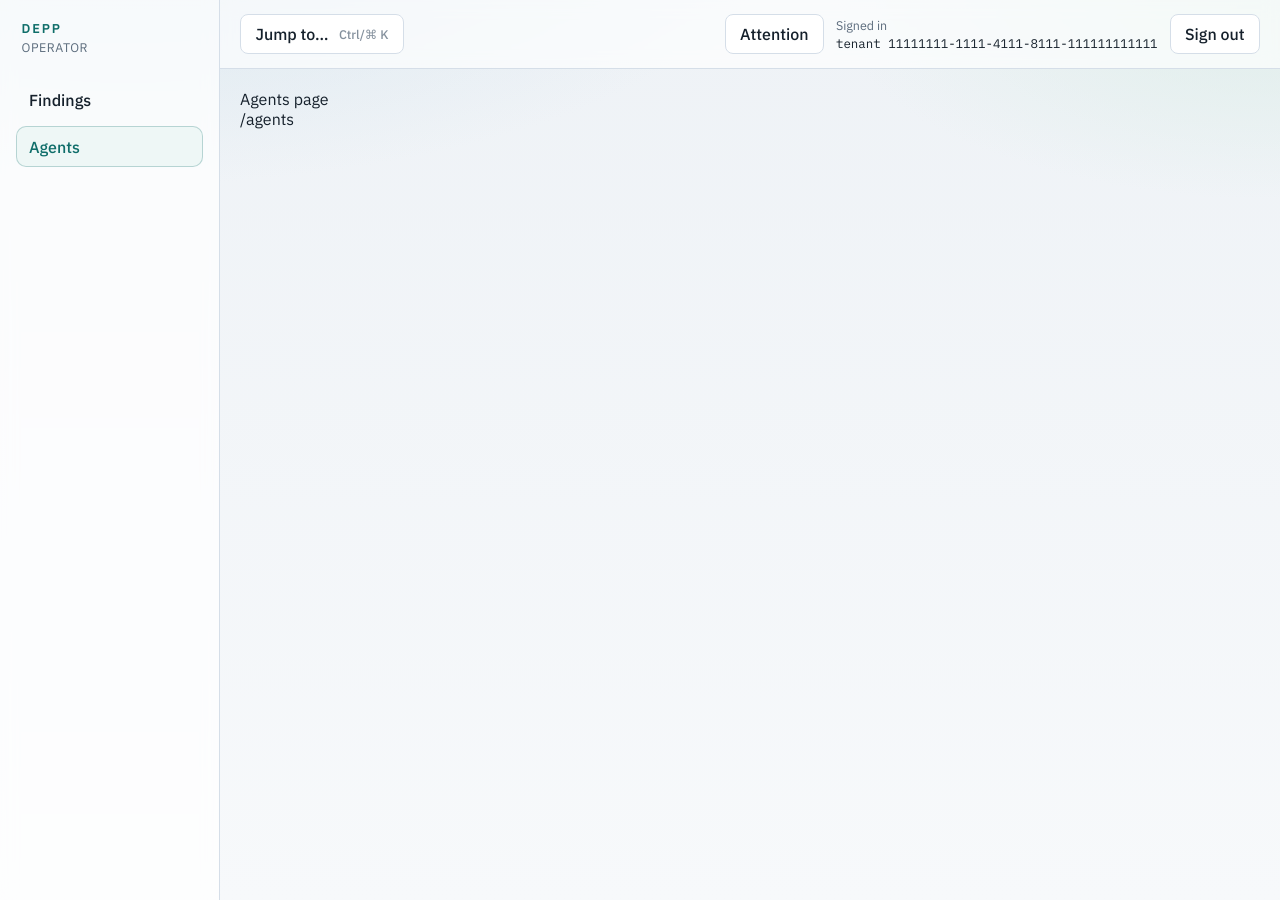
Test case: OperatorShell › navigates and applies findings filters through the jump bar URL path
The image size is (1280, 900).
Expected: the text "Agents page" is shown, 240,89 -> 329,109
Click the button "Jump to… Ctrl/⌘ K": click(322, 34) 240,14 -> 404,54
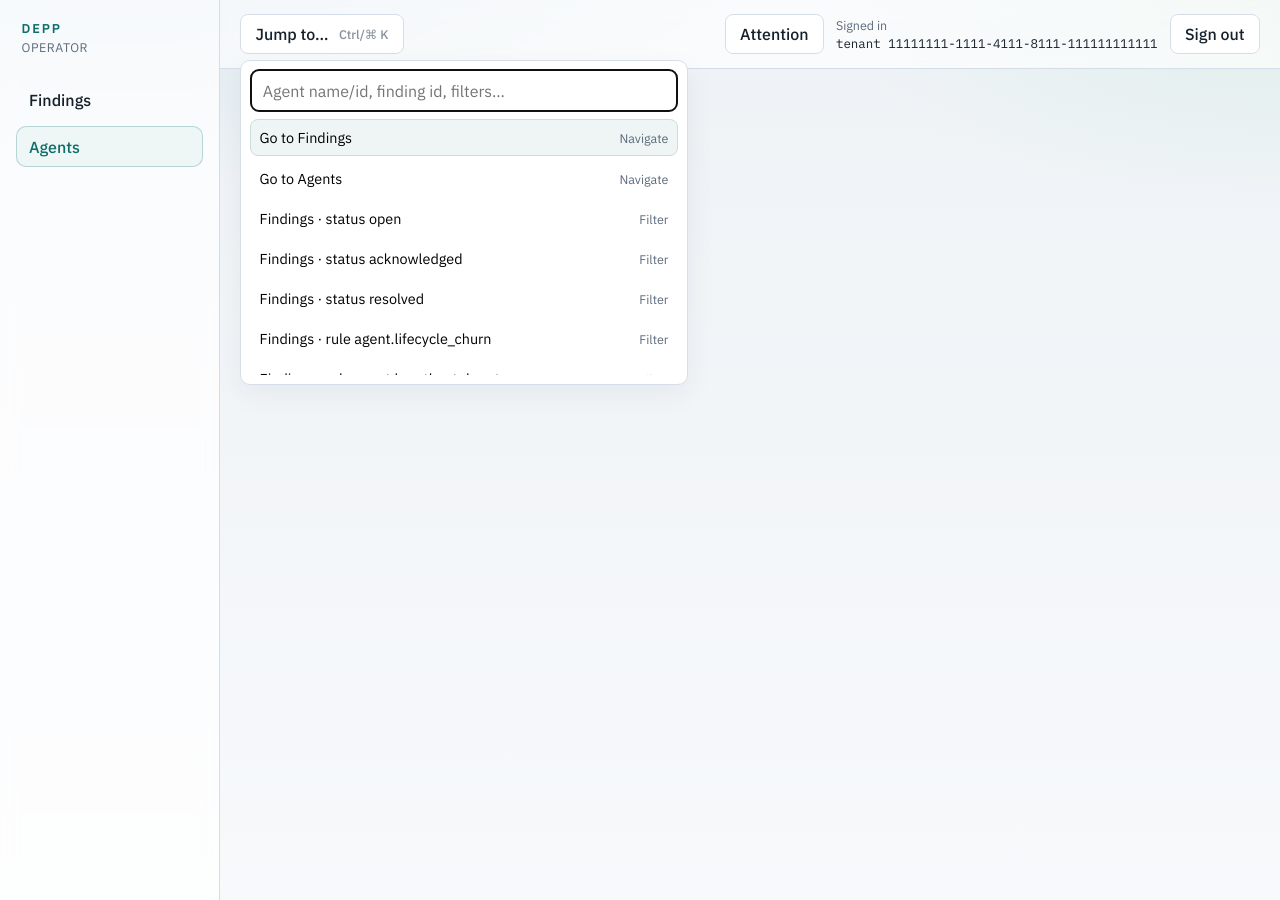
Expected: the dialog named "Jump to destination, lookup, or filter" is shown, 240,60 -> 688,385
Click the option "Go to Findings Navigate": click(306, 138) 250,119 -> 678,156
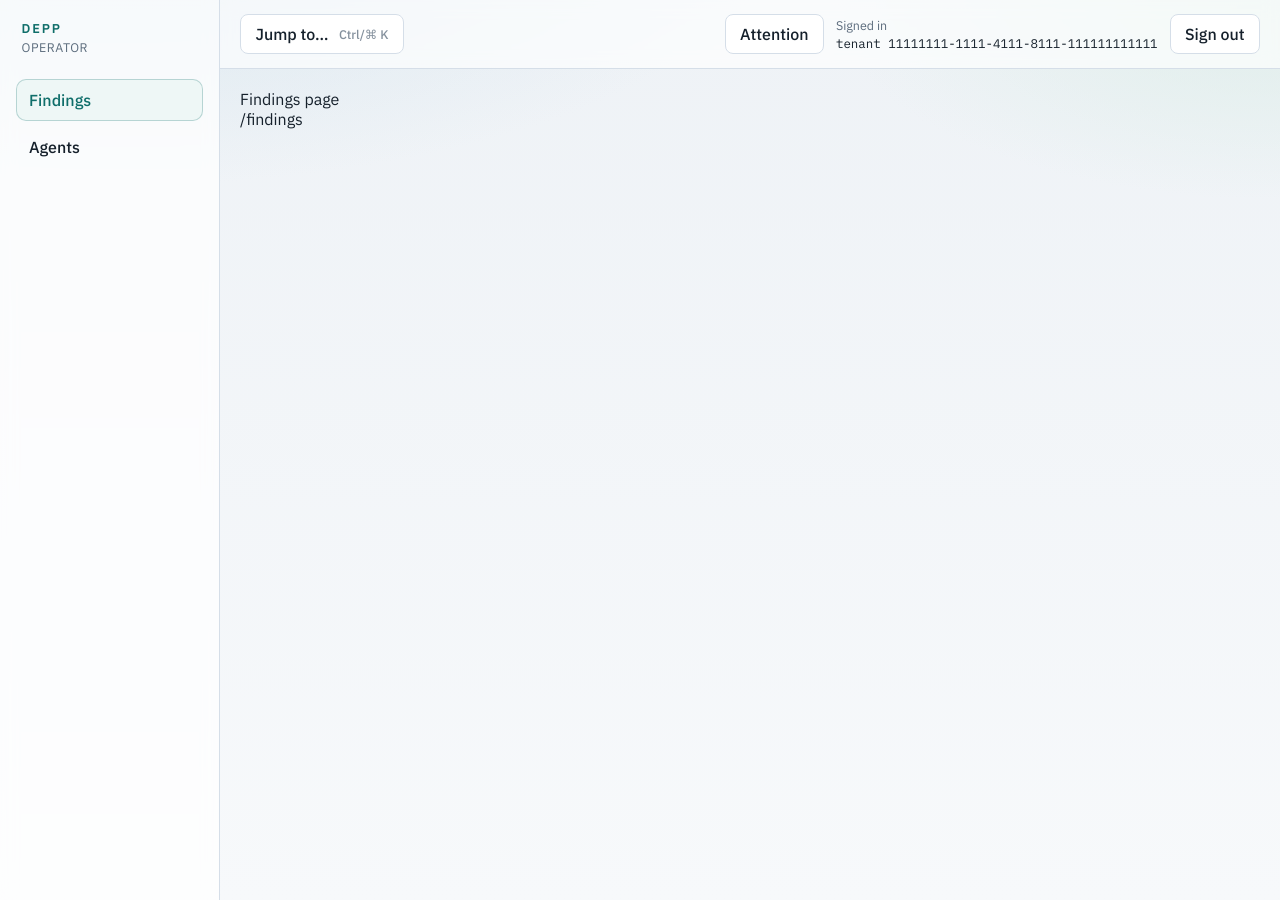
Expected: the text "Findings page" is shown, 240,89 -> 339,109
Click the button "Jump to… Ctrl/⌘ K": click(322, 34) 240,14 -> 404,54
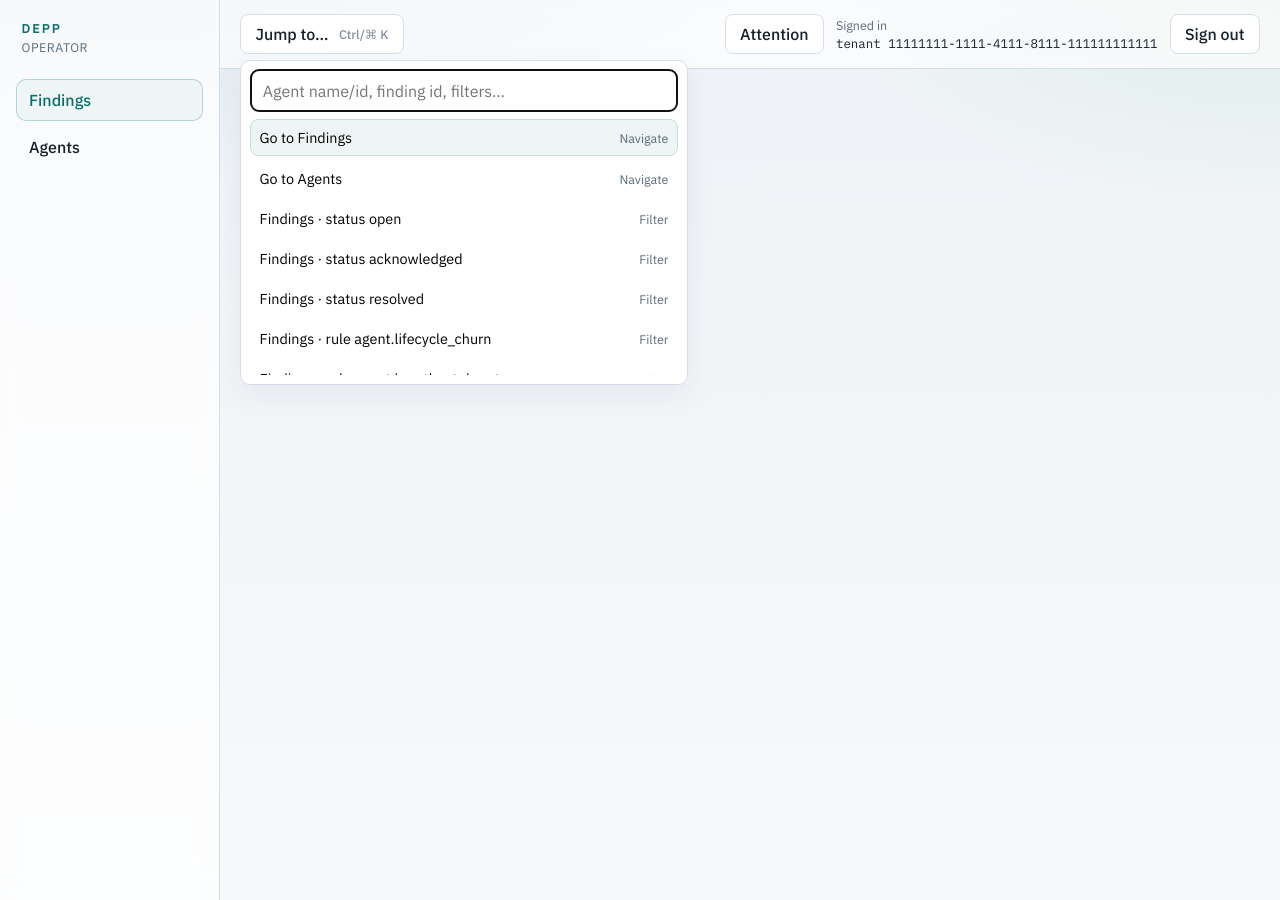
In the field named "Filter actions": (464, 91) 250,69 -> 678,112, type "status open"
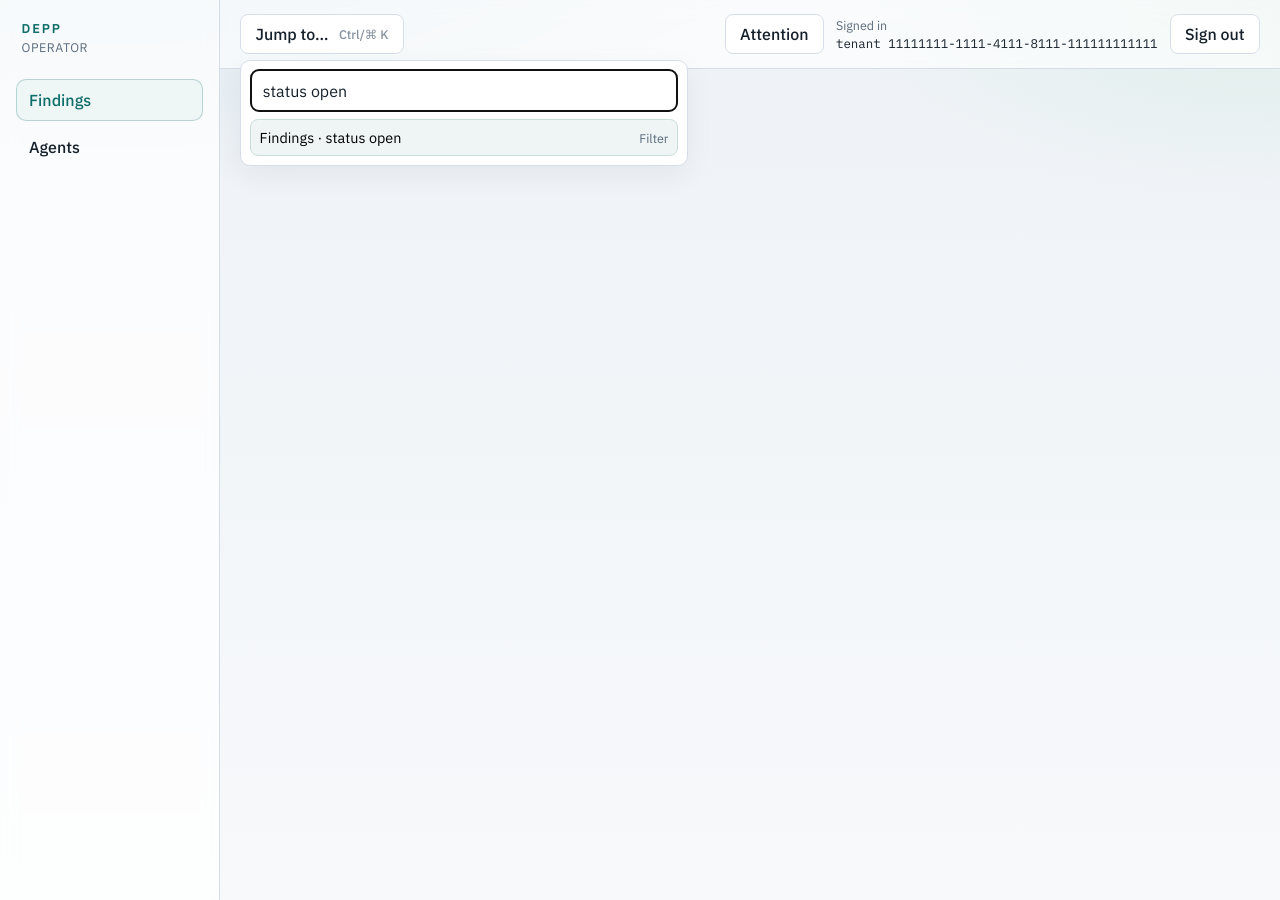
Click the option "Findings · status open Filter": click(330, 138) 250,119 -> 678,156
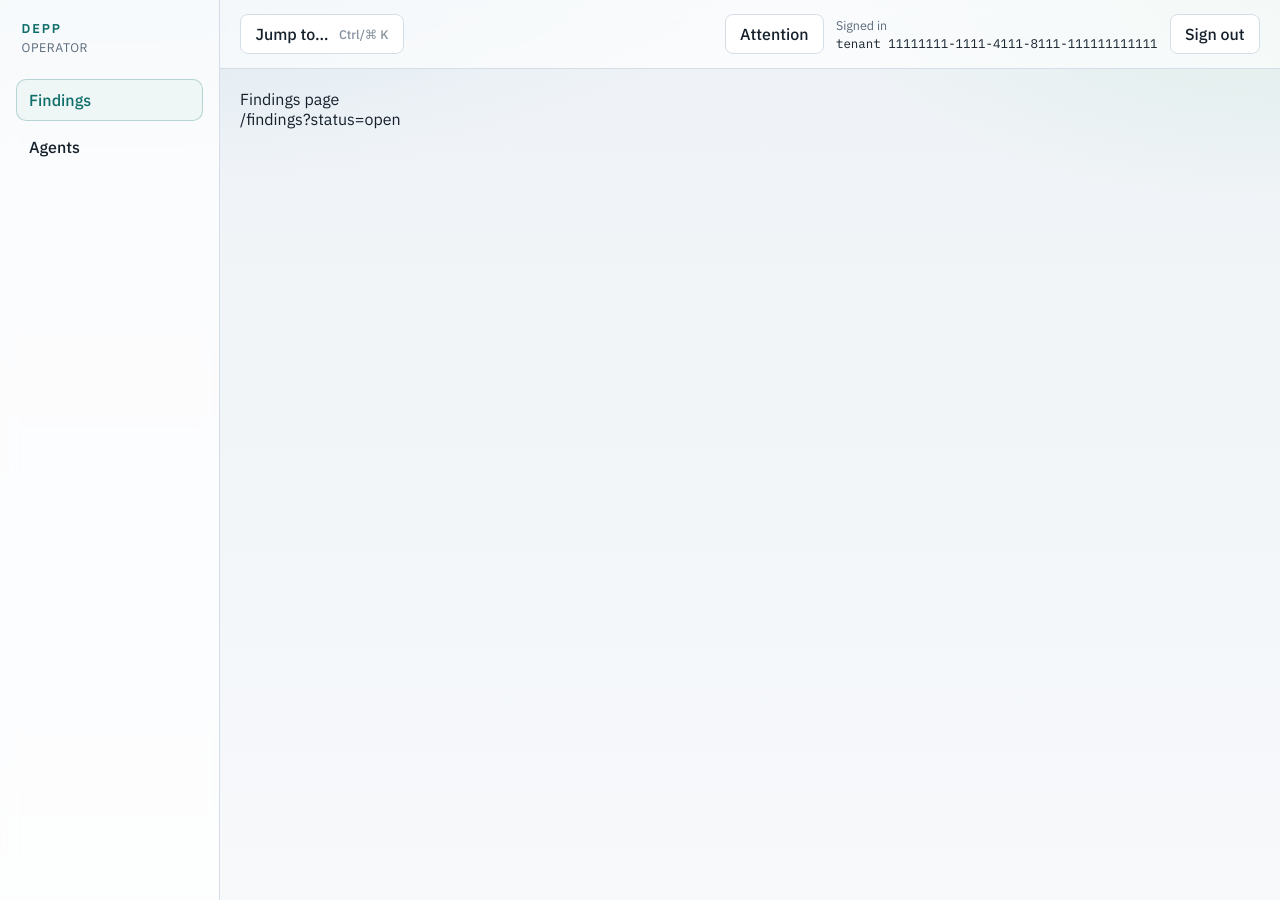
Expected: the text with test id "location-probe" reads "/findings?status=open", 240,109 -> 401,129
